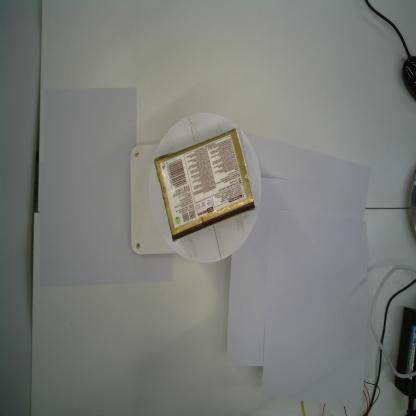Tissue: (154, 128, 257, 242)
